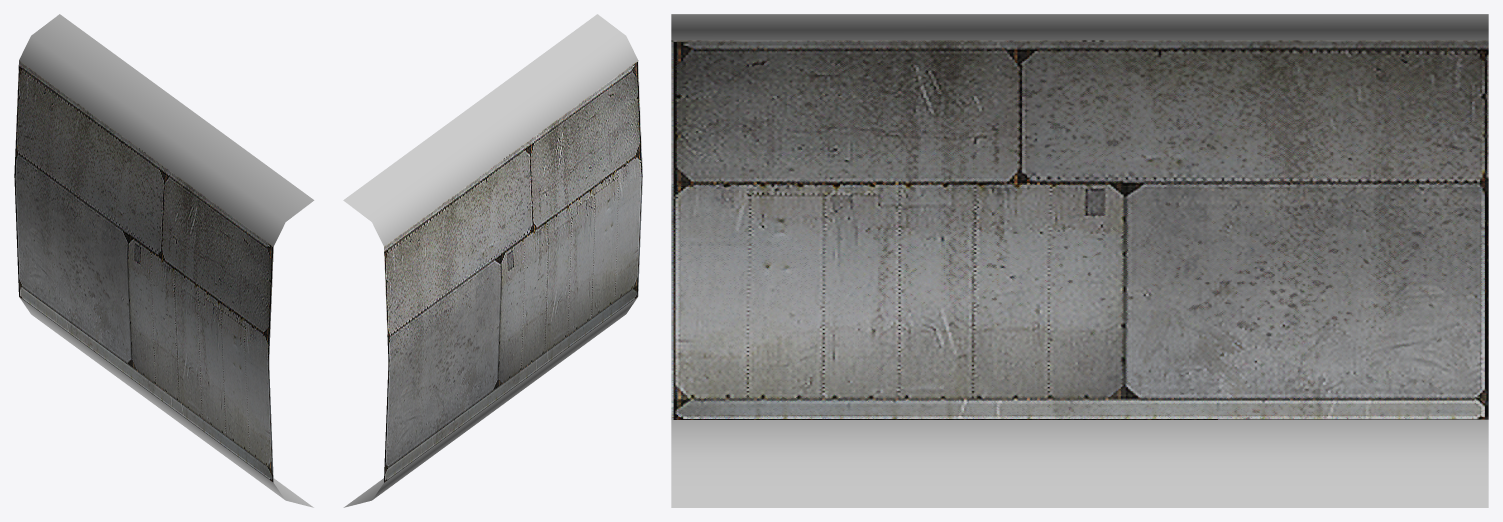
Rendered from Wall_D_Short2mts_01.fbx.
3 views of the same model, side by side, from view 1: azimuth 30°, elevation 25°; view 2: azimuth 150°, elevation 25°; view 3: azimuth 270°, elevation 25° (orthographic). The views are drawn at different scales.
Parts seen in each view (by area): view 1: Wall_D_Short2mts_01; view 2: Wall_D_Short2mts_01; view 3: Wall_D_Short2mts_01.
Part boxes in pixels (x1,y1,x2,y2): Wall_D_Short2mts_01: (14,14,314,507); Wall_D_Short2mts_01: (343,14,642,507); Wall_D_Short2mts_01: (671,14,1488,507).
Bounding box in the file's own units: 30.99 × 200 × 300.
